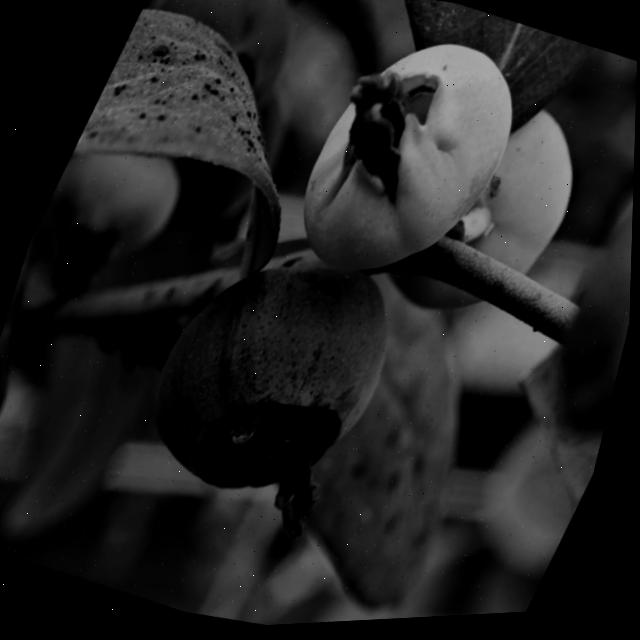RipeBlueBerry: (96, 203, 433, 564)
UnripeBlueBerry: (253, 0, 550, 327)
